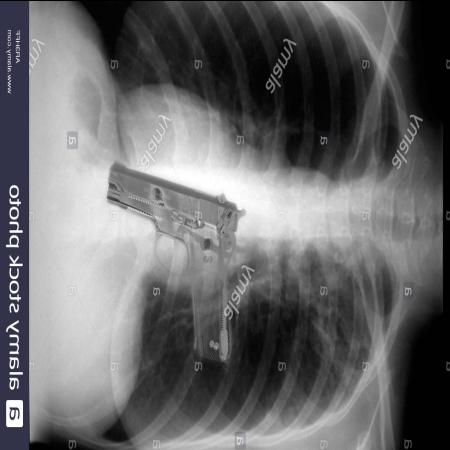Pistol: (108, 160, 246, 367)
